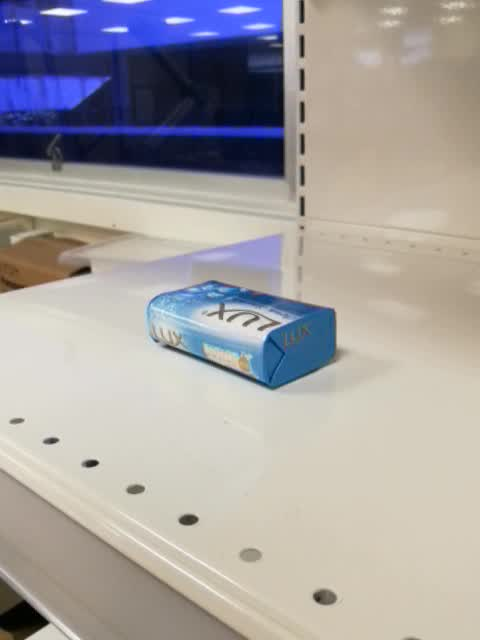soap: (145, 279, 338, 390)
